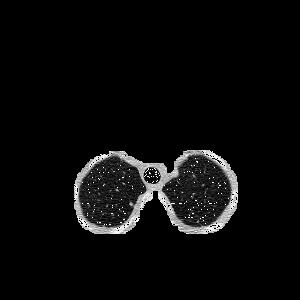PN: (128, 202, 132, 206)
